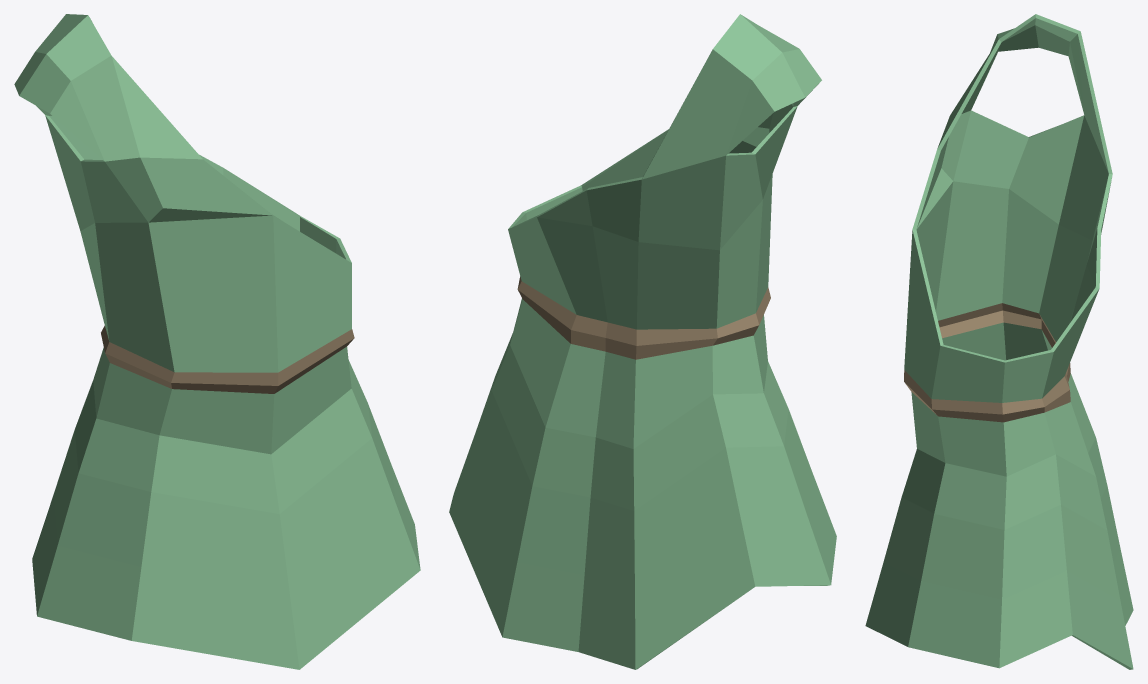
The model's file is M Citizen Side Robe.fbx.
3 renders of one model, left to right at view 1: azimuth 30°, elevation 25°; view 2: azimuth 150°, elevation 25°; view 3: azimuth 270°, elevation 25°, orthographic. The views are drawn at different scales.
Parts seen in each view (by area): view 1: M Citizen Side Robe; view 2: M Citizen Side Robe; view 3: M Citizen Side Robe.
Boxes of the visible parts, x1=… form: M Citizen Side Robe: x1=14, y1=14, x2=420, y2=669; M Citizen Side Robe: x1=449, y1=14, x2=836, y2=669; M Citizen Side Robe: x1=865, y1=14, x2=1133, y2=669.
Bounding box in the file's own units: 97.7 × 157 × 65.99.
